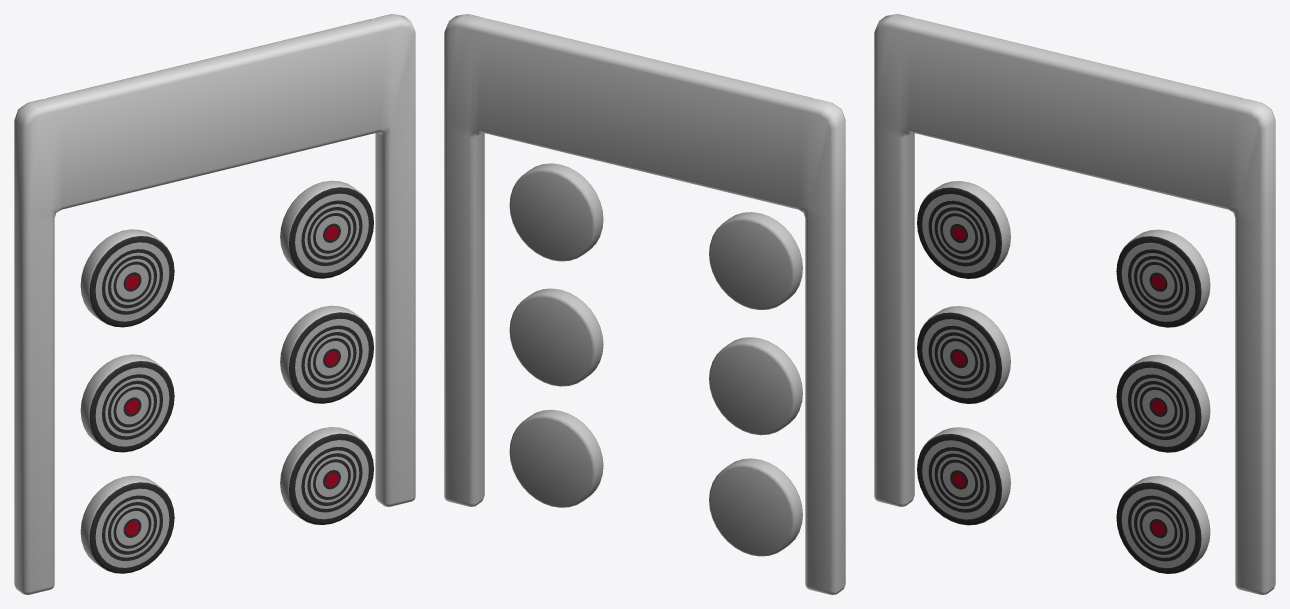
The model's file is gate.fbx.
3 views of the same model, side by side, from view 1: azimuth 30°, elevation 25°; view 2: azimuth 150°, elevation 25°; view 3: azimuth 330°, elevation 25° (orthographic).
Parts seen in each view (by area): view 1: Cube.113, Cylinder.004, Cylinder.001, Cylinder, Cylinder.002, Cylinder.003, Cylinder.005; view 2: Cube.113, Cylinder.002, Cylinder.004, Cylinder.001, Cylinder.003, Cylinder, Cylinder.005; view 3: Cube.113, Cylinder.001, Cylinder.005, Cylinder.004, Cylinder.003, Cylinder.002, Cylinder.
Boxes of the visible parts, <box> form: Cube.113: <box>14,14,415,594</box>; Cylinder.004: <box>80,475,174,573</box>; Cylinder.001: <box>280,180,373,278</box>; Cylinder: <box>80,229,174,327</box>; Cylinder.002: <box>80,354,174,452</box>; Cylinder.003: <box>280,305,373,403</box>; Cylinder.005: <box>280,427,373,524</box>; Cube.113: <box>444,14,845,594</box>; Cylinder.002: <box>709,337,802,435</box>; Cylinder.004: <box>709,458,802,556</box>; Cylinder.001: <box>509,163,603,261</box>; Cylinder.003: <box>509,288,603,386</box>; Cylinder: <box>709,212,802,309</box>; Cylinder.005: <box>509,409,603,507</box>; Cube.113: <box>874,14,1275,594</box>; Cylinder.001: <box>1116,229,1210,327</box>; Cylinder.005: <box>1116,476,1210,573</box>; Cylinder.004: <box>917,427,1010,525</box>; Cylinder.003: <box>1116,354,1210,452</box>; Cylinder.002: <box>917,306,1010,403</box>; Cylinder: <box>917,181,1010,278</box>.
Size of the model in its own units: 1109 by 1306 by 113.
